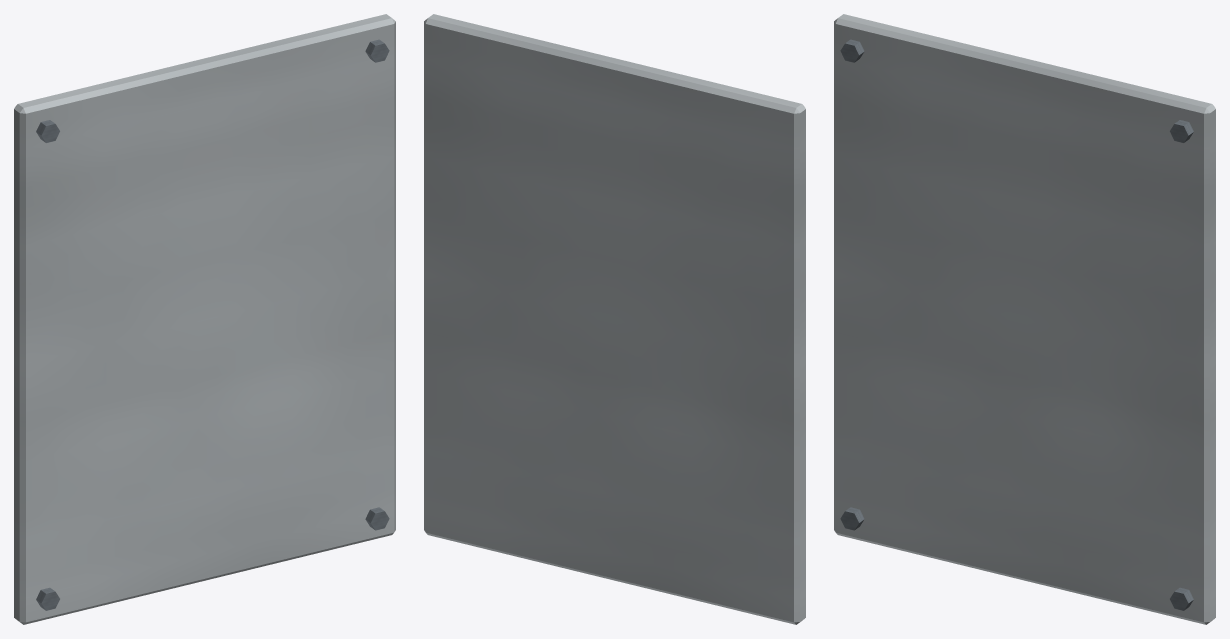
The model's file is mirror_cell.fbx.
The picture shows the model from 3 angles, left to right: view 1: azimuth 30°, elevation 25°; view 2: azimuth 150°, elevation 25°; view 3: azimuth 330°, elevation 25°; orthographic projection.
Visible parts, largest first — view 1: mirror_cell; view 2: mirror_cell; view 3: mirror_cell.
Boxes of the visible parts, box(x1,y1,x2,y2) form: mirror_cell: box(14, 14, 395, 624); mirror_cell: box(424, 14, 805, 624); mirror_cell: box(834, 14, 1215, 624).
Bounding box in the file's own units: 0.32 × 0.42 × 0.023.
1 material, 1 textured.
